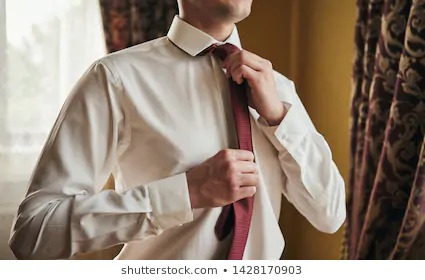F_shirt: (1, 32, 348, 256)
F_tie: (208, 37, 260, 261)
